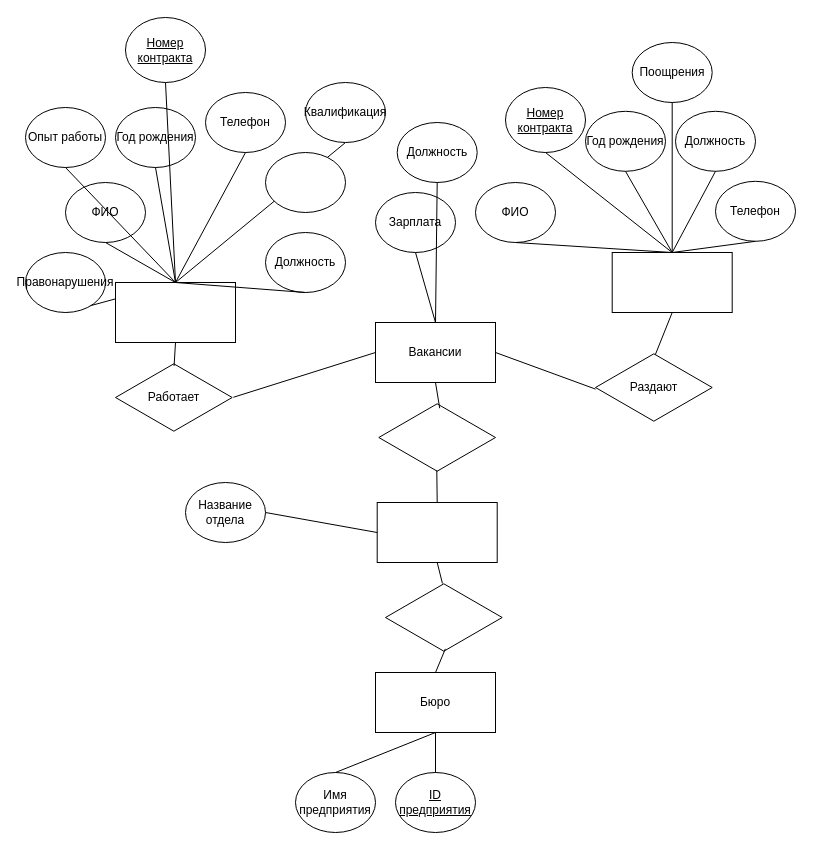
The diagram is 813 pixels wide and 850 high, and some of its shapes have lost their labels. The box of each missing label's shape, as (x1, y1, x2, y2) in pixels:
Место работы: (264, 152, 346, 212)
Отделы Бюро: (376, 502, 497, 562)
Подразделяется: (384, 582, 502, 652)
Предоставляет: (378, 402, 496, 472)
Работник: (114, 282, 236, 342)
Сотрудник: (611, 252, 732, 312)
